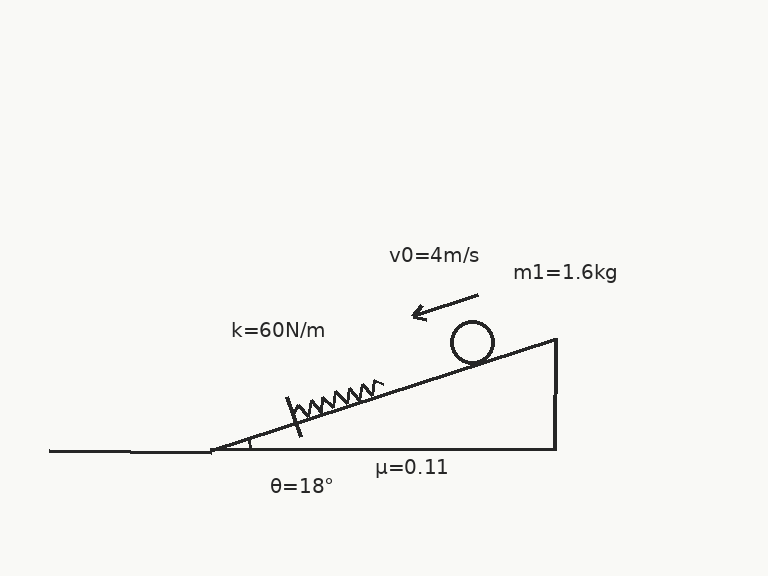ball: (448, 318, 496, 366)
ramp: (208, 336, 556, 452)
spring: (291, 378, 385, 418)
